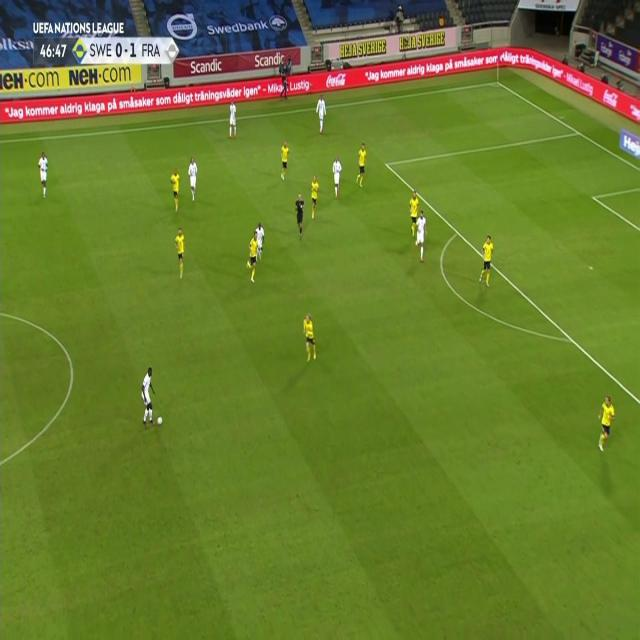ball: (156, 413, 164, 425)
player: (139, 366, 161, 428), (596, 393, 616, 453), (478, 234, 496, 287), (302, 312, 318, 364), (246, 230, 260, 284), (414, 209, 428, 262), (173, 226, 187, 279), (355, 142, 368, 190), (408, 189, 420, 239), (37, 150, 49, 199), (187, 156, 199, 202), (170, 168, 182, 213), (294, 191, 305, 240), (331, 156, 343, 199), (279, 140, 291, 182), (310, 172, 320, 220), (315, 94, 327, 132), (228, 100, 238, 138), (255, 222, 265, 257)
